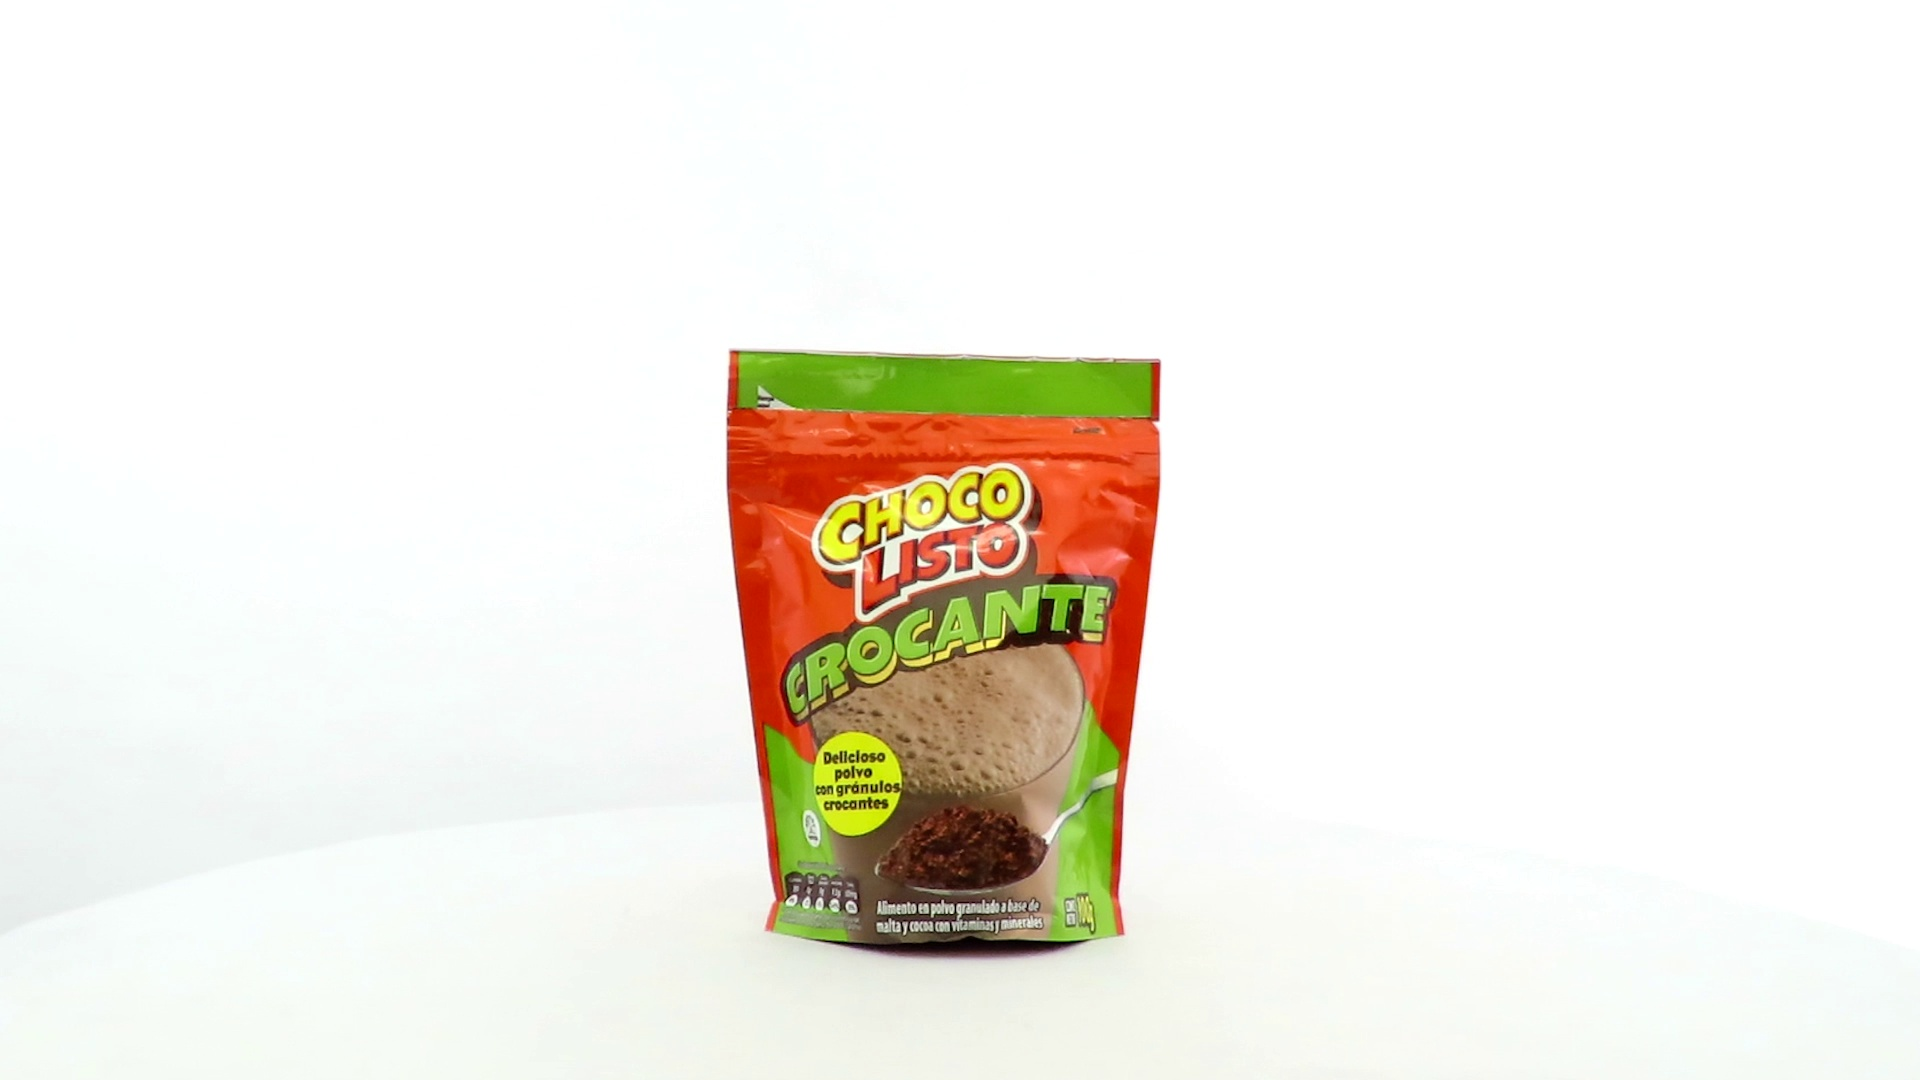COL0170102DYP10000: (721, 344, 1167, 965)
